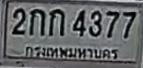2: (11, 7, 26, 34)
3: (88, 10, 102, 37)
4: (72, 9, 86, 37)
7: (105, 10, 120, 39), (122, 11, 136, 39)
A01: (48, 8, 65, 37), (29, 8, 45, 37)
BKK: (21, 42, 119, 61)
